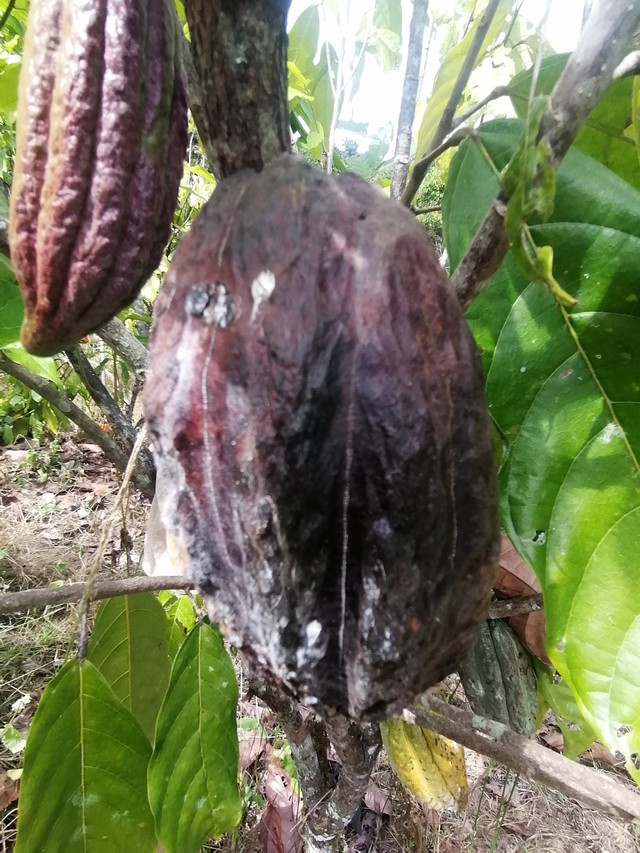moniliophthora roreri: (121, 148, 519, 734)
